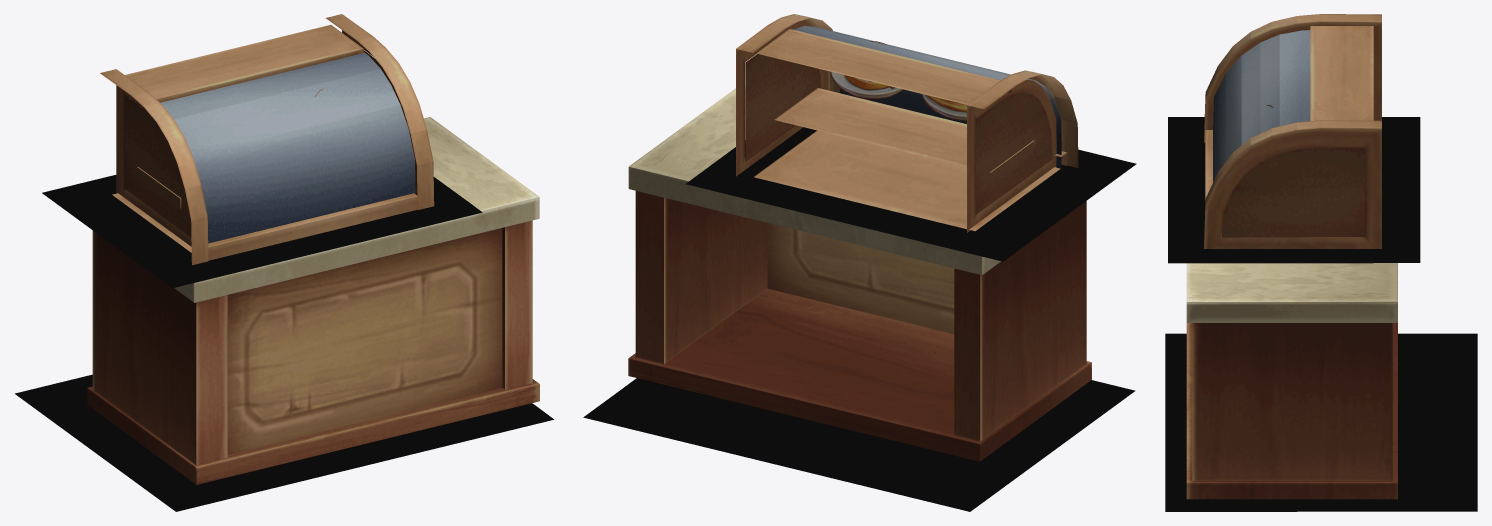
File: K1_oldcabinet1.FBX
3 views of the same model, side by side, from view 1: azimuth 30°, elevation 25°; view 2: azimuth 150°, elevation 25°; view 3: azimuth 270°, elevation 25° (orthographic). The views are drawn at different scales.
Visible parts, largest first — view 1: shipintai, shipingui, shipintai_yy, shipingui_yy; view 2: shipintai, shipingui, shipintai_yy, shipingui_yy, shiwu2, shiwu1; view 3: shipintai, shipingui, shipintai_yy, shipingui_yy.
Part boxes in pixels (x1,y1,x2,y2): shipintai: (87, 117, 539, 484); shipingui: (100, 14, 434, 265); shipintai_yy: (15, 374, 553, 511); shipingui_yy: (42, 175, 482, 288); shipintai: (628, 86, 1091, 461); shipingui: (736, 14, 1078, 232); shipintai_yy: (583, 378, 1135, 511); shipingui_yy: (685, 127, 1136, 261); shiwu2: (830, 41, 903, 98); shiwu1: (921, 94, 966, 120); shipintai: (1186, 263, 1397, 499); shipingui: (1204, 14, 1381, 248); shipintai_yy: (1165, 333, 1477, 511); shipingui_yy: (1168, 117, 1420, 263).
Bounding box in the file's own units: 79.43 × 69.36 × 58.34.
